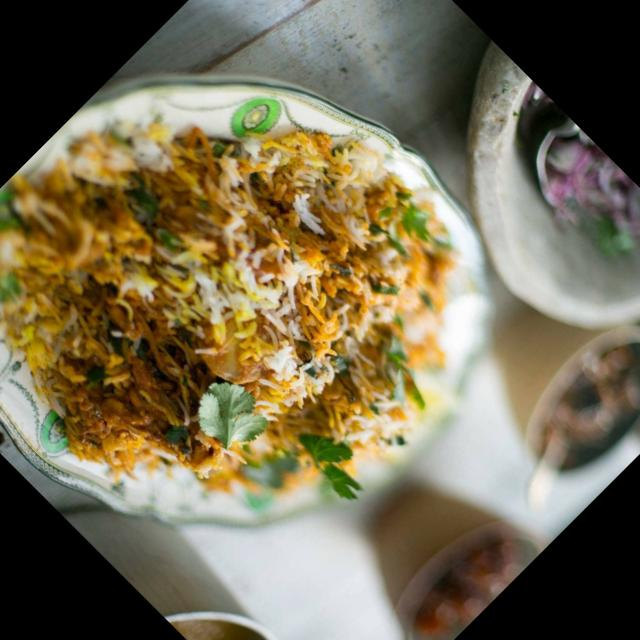Biryani: (0, 0, 541, 615)
